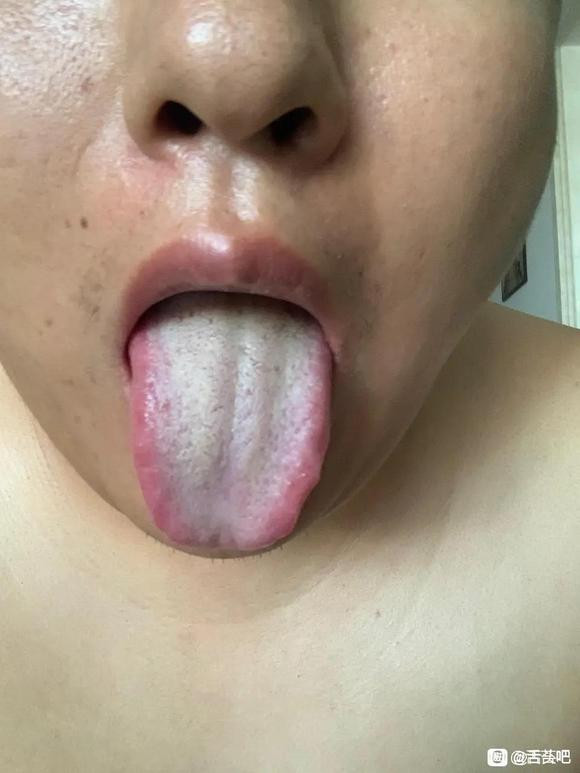baitaishe: (128, 297, 332, 551)
chihenshe: (291, 423, 331, 531)
hongshe: (128, 297, 332, 551)
